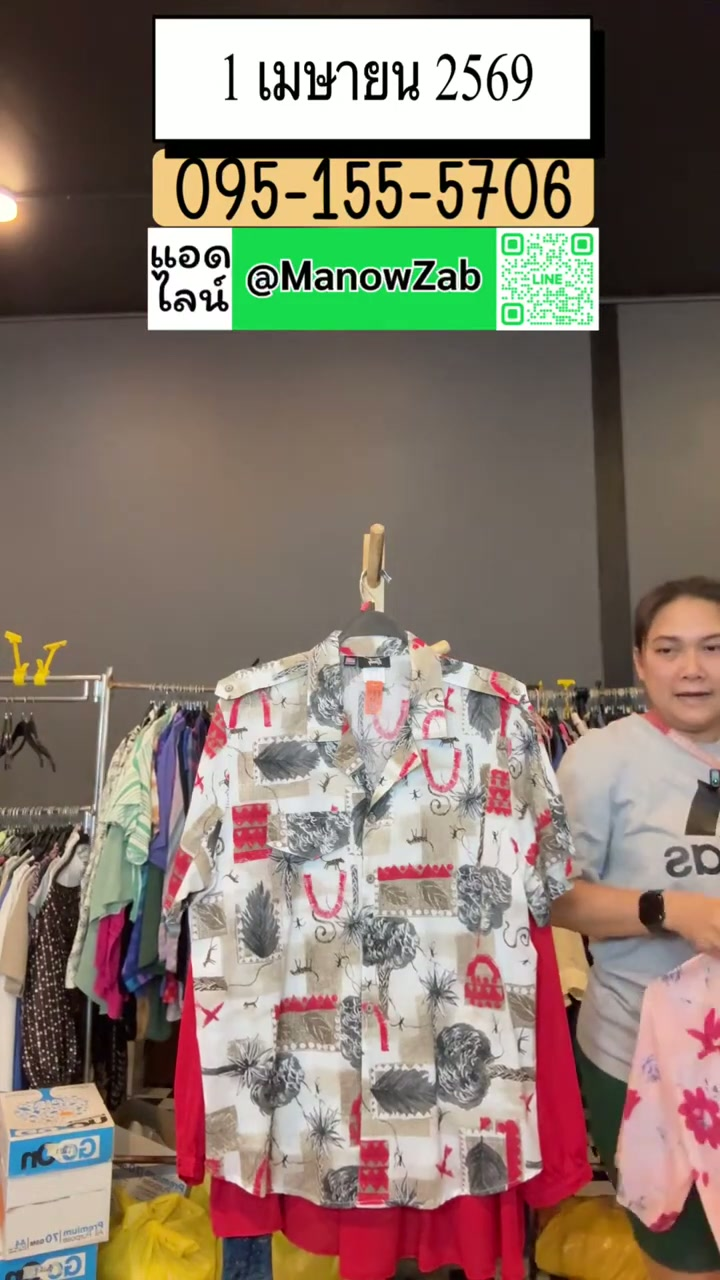display_shirt: (167, 625, 573, 1217)
